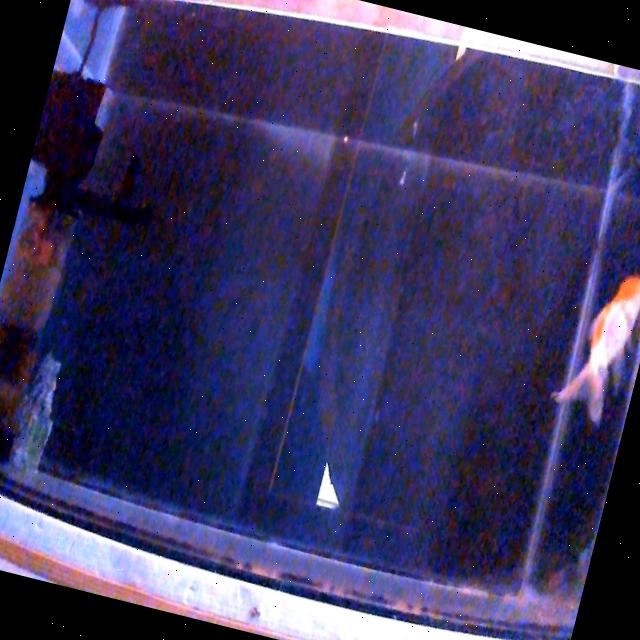fish: (543, 261, 640, 427)
